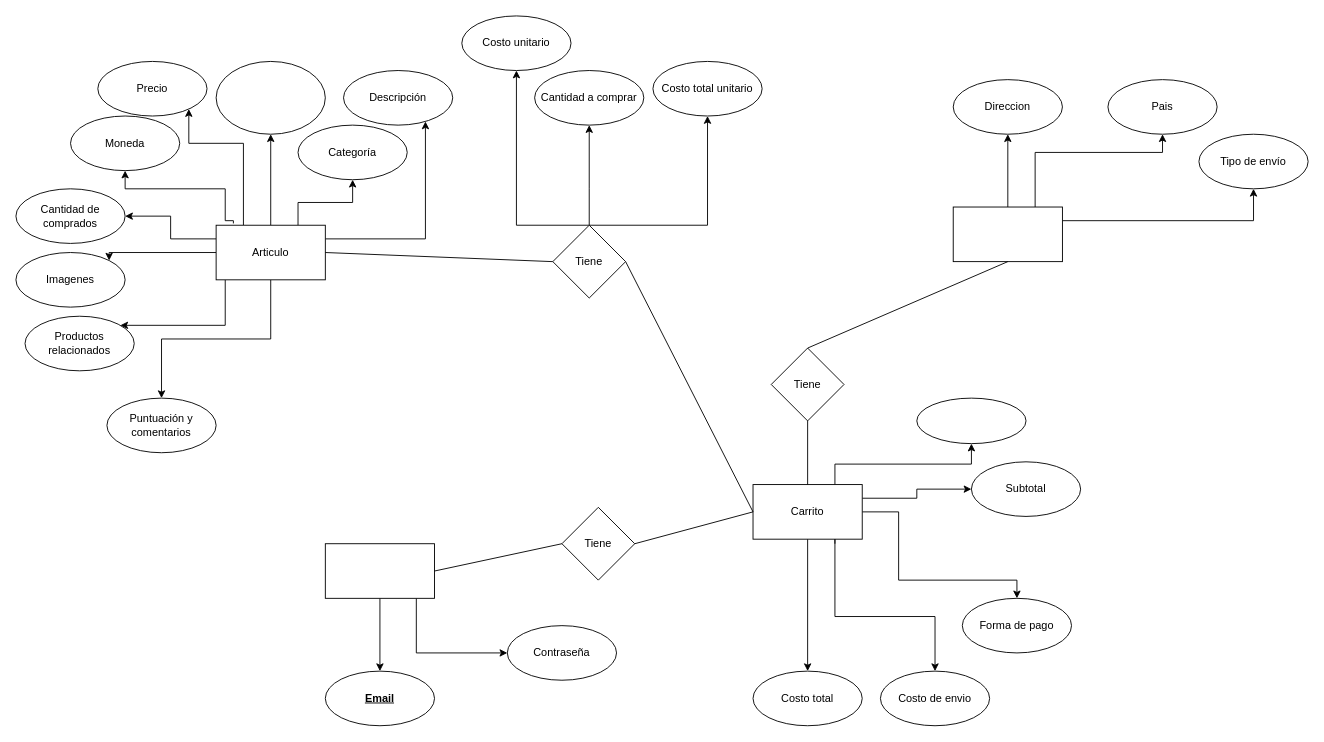
The diagram is 1324 pixels wide and 742 high, and some of its shapes have lost their labels. The centre of each missing label's shape, as x and y in pixels:
"Codificacion" belongs at [971,420].
"Método de envío" belongs at [1007,234].
"Nombre" belongs at [270,97].
"Usuario" belongs at [379,570].
